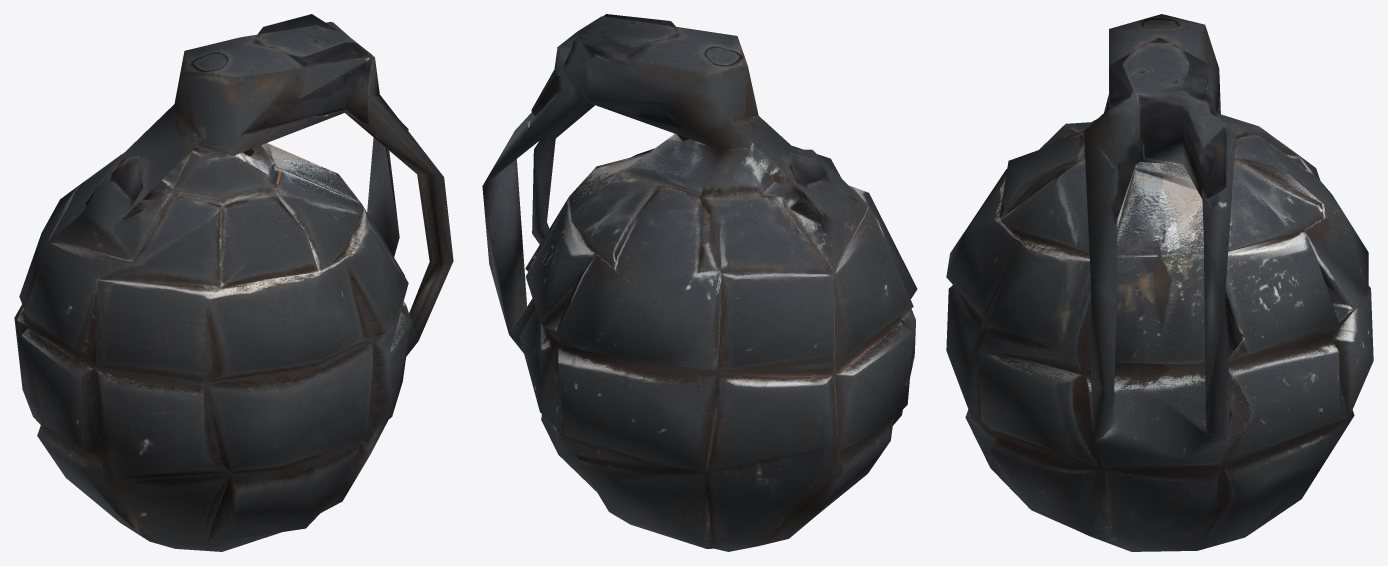
File: GrenadeModel.fbx
3 views of the same model, side by side, from view 1: azimuth 30°, elevation 25°; view 2: azimuth 150°, elevation 25°; view 3: azimuth 270°, elevation 25° (orthographic). The views are drawn at different scales.
Visible parts, largest first — view 1: Mesh_0; view 2: Mesh_0; view 3: Mesh_0.
Boxes of the visible parts, x1,y1,x2,y2 form: Mesh_0: [14, 14, 453, 551]; Mesh_0: [482, 14, 917, 551]; Mesh_0: [946, 14, 1373, 551].
Bounding box in the file's own units: 7.28 × 9 × 6.63.
Materials: 1 (1 with a texture image).
